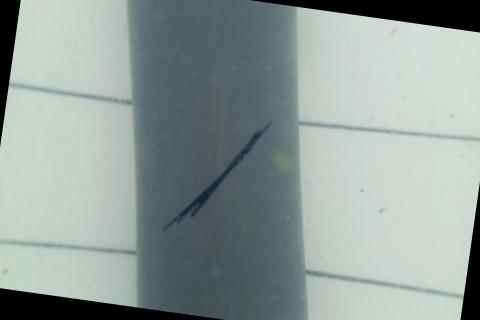keretakan: (159, 104, 273, 248)
